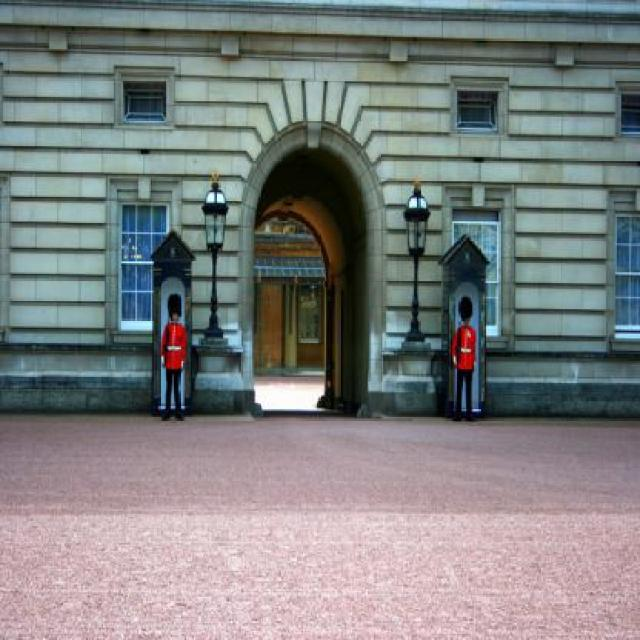Person: (450, 290, 485, 413), (159, 290, 186, 422)
